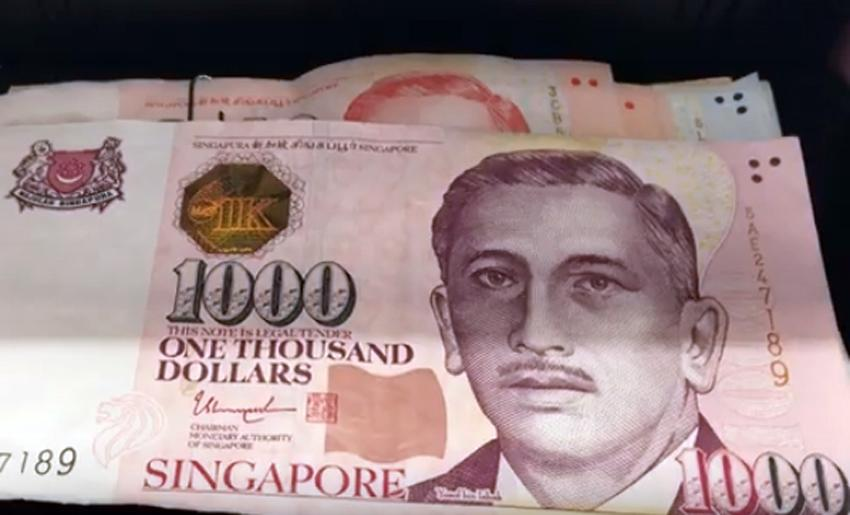1000SingaporeDollar: (0, 137, 848, 515)
